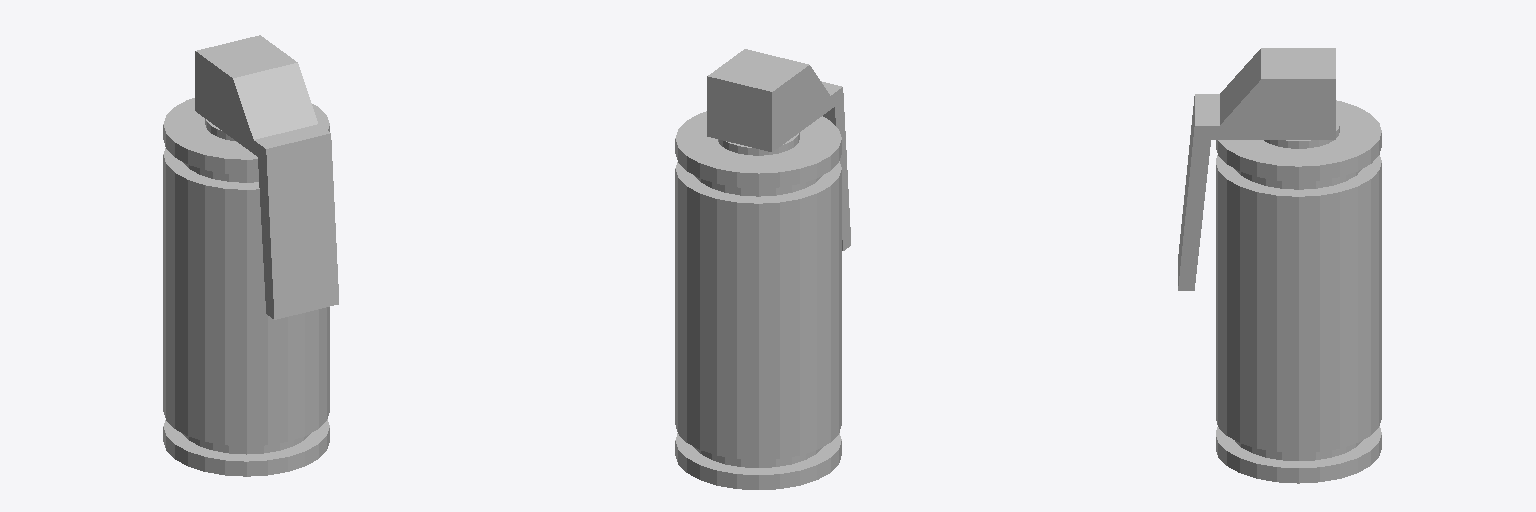
File: grenadeSmoke.obj
3 renders of one model, left to right at view 1: azimuth 30°, elevation 25°; view 2: azimuth 150°, elevation 25°; view 3: azimuth 270°, elevation 25°, orthographic.
Visible parts, largest first — view 1: grenadeSmoke, grip; view 2: grenadeSmoke, grip; view 3: grenadeSmoke, grip.
Part boxes in pixels (x1,y1,x2,y2): grenadeSmoke: (163, 98, 329, 476); grip: (195, 35, 338, 319); grenadeSmoke: (675, 111, 841, 489); grip: (707, 49, 850, 250); grenadeSmoke: (1216, 100, 1381, 483); grip: (1178, 48, 1335, 290).
Size of the model in its own units: 0.0766 by 0.1952 by 0.0938.